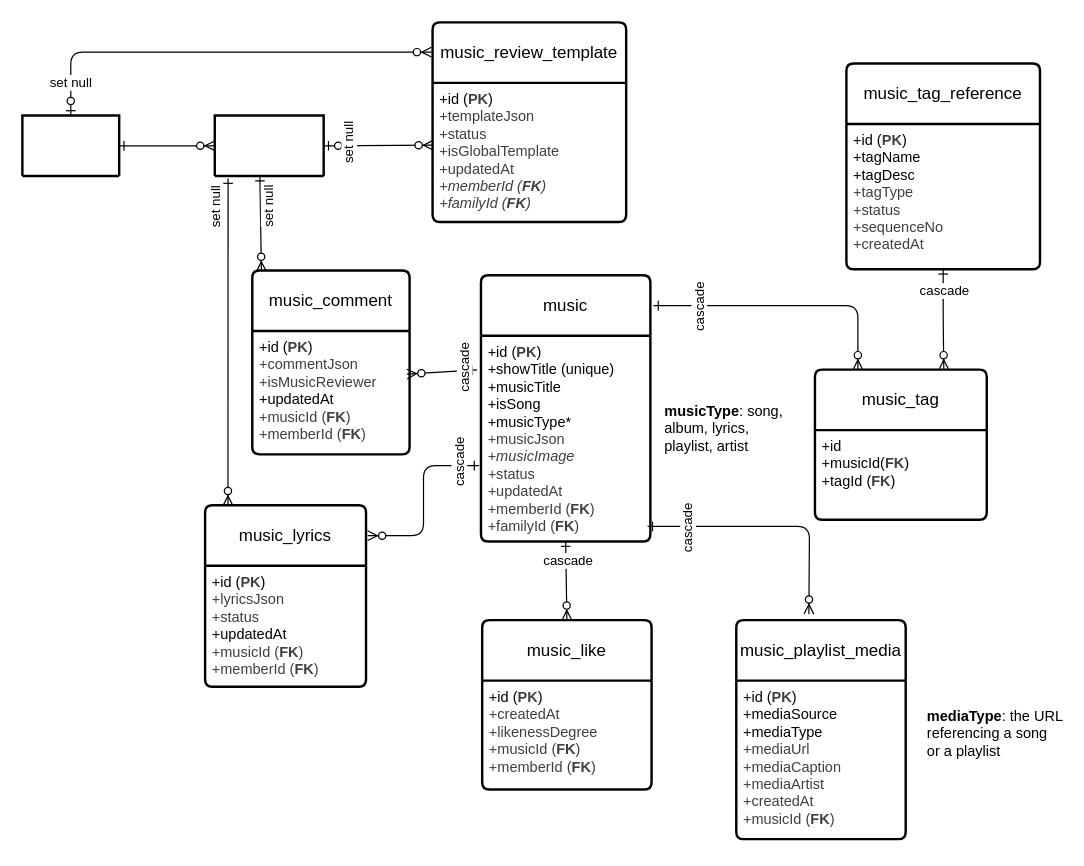
This 1084x866 diagram has some shape labels left out. The centre of each missing label's shape, as x and y in pixels:
"family" goes at (x=70, y=145).
"member" goes at (x=268, y=145).
